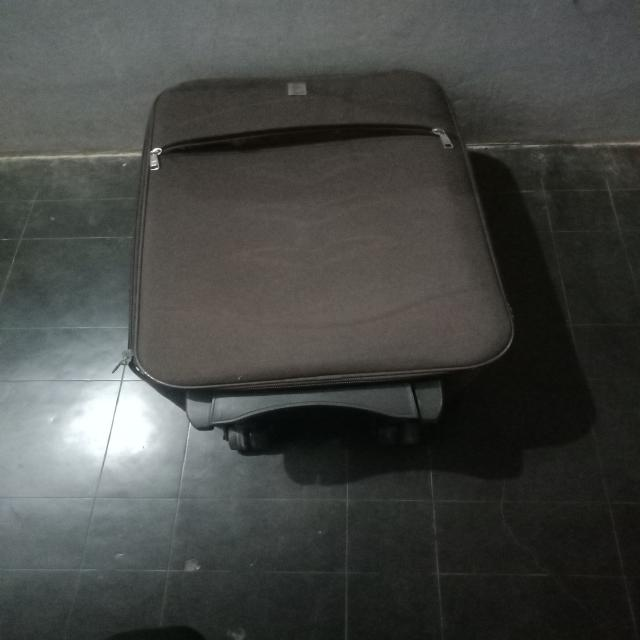suitcaserotation: (110, 66, 524, 457)
